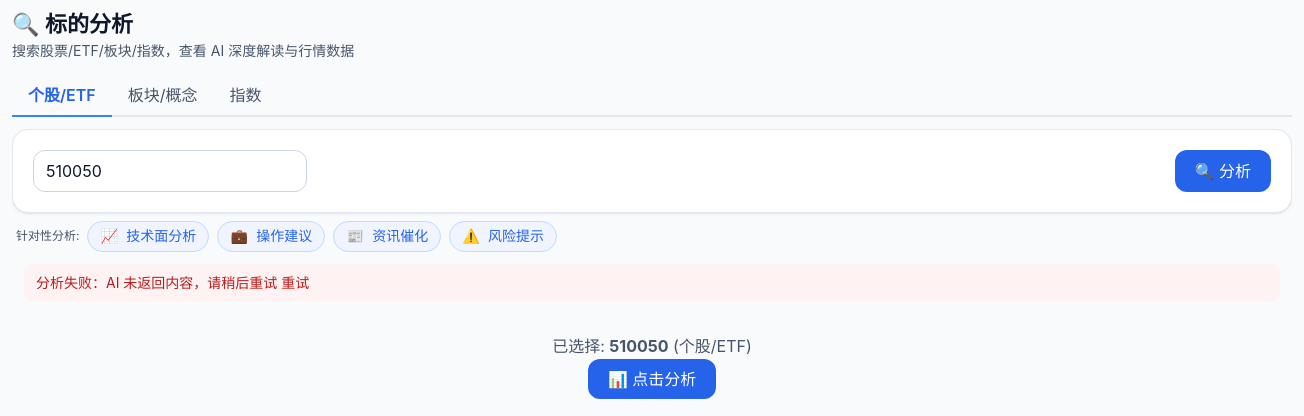
Test: UnifiedAnalysis F18 (交互一致性 + 错误态) › O24: 失败后点「重试」重新发起分析（同输入）
Step 1. Click the button with class "btn-retry" → (295, 282), box [281,272,309,293]
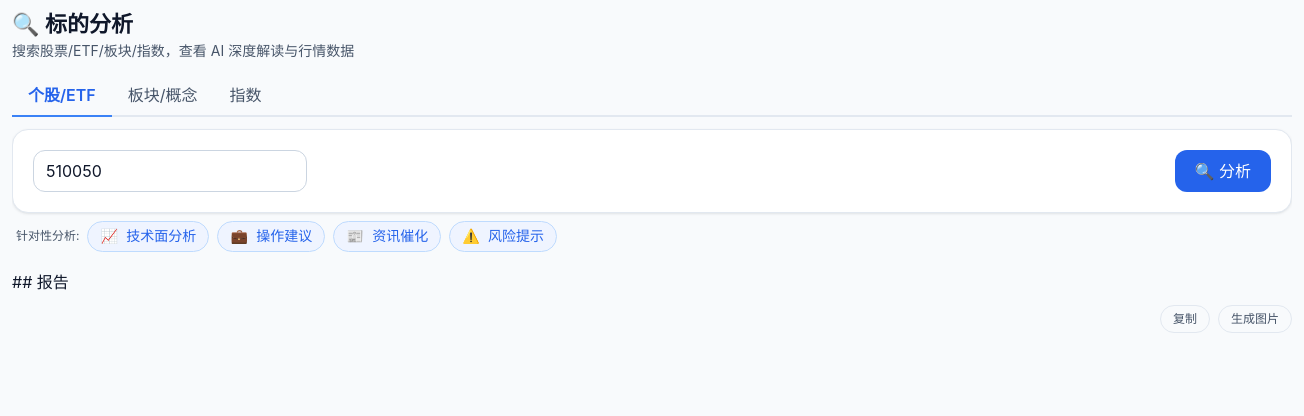
Expected: the text "## 报告" is shown, [12,272,69,292]
